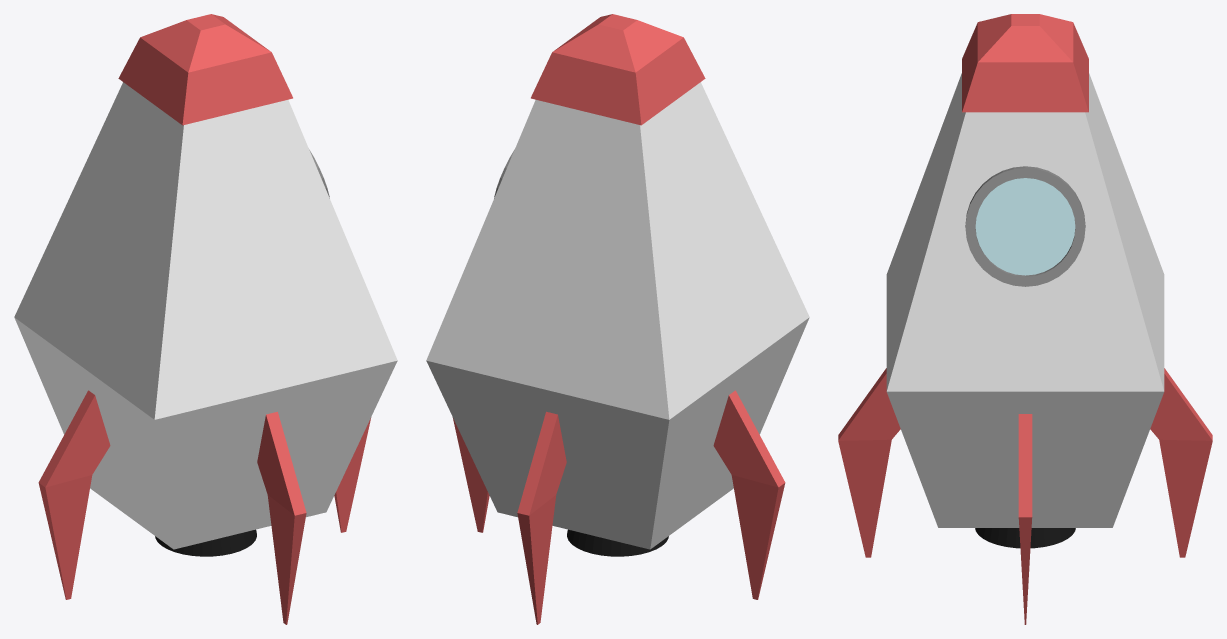
The model's file is rocket.fbx.
3 views of the same model, side by side, from view 1: azimuth 30°, elevation 25°; view 2: azimuth 150°, elevation 25°; view 3: azimuth 270°, elevation 25° (orthographic).
Parts seen in each view (by area): view 1: Rocket, Nosecone, Leg3, Leg2, Leg4, Engine; view 2: Rocket, Nosecone, Leg3, Leg1, Leg4, Engine; view 3: Rocket, Nosecone, Window, Leg1, Leg2, Leg4, Engine.
Part boxes in pixels (left/top/right/bottom): Rocket: left=14, top=82, right=397, bottom=549; Nosecone: left=118, top=14, right=292, bottom=125; Leg3: left=38, top=390, right=110, bottom=599; Leg2: left=257, top=411, right=306, bottom=624; Leg4: left=334, top=417, right=371, bottom=532; Engine: left=155, top=529, right=256, bottom=556; Rocket: left=426, top=82, right=809, bottom=549; Nosecone: left=531, top=14, right=705, bottom=125; Leg3: left=713, top=390, right=785, bottom=599; Leg1: left=517, top=411, right=566, bottom=624; Leg4: left=452, top=417, right=489, bottom=532; Engine: left=567, top=529, right=668, bottom=556; Rocket: left=886, top=73, right=1164, bottom=527; Nosecone: left=962, top=14, right=1088, bottom=112; Window: left=965, top=166, right=1085, bottom=286; Leg1: left=1150, top=368, right=1212, bottom=557; Leg2: left=838, top=368, right=900, bottom=557; Leg4: left=1018, top=414, right=1032, bottom=624; Engine: left=975, top=528, right=1075, bottom=548.
Size of the model in its own units: 4.3 by 6.8 by 4.3.
